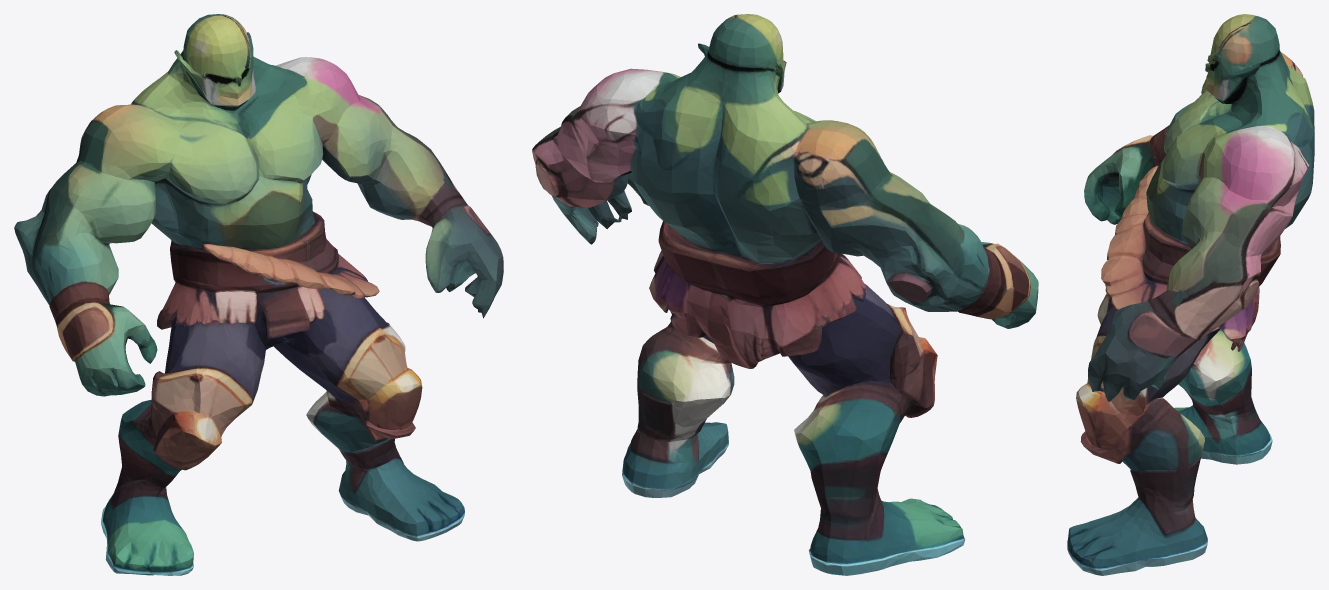
Rendered from orc_warrior.glb.
3 renders of one model, left to right at view 1: azimuth 30°, elevation 25°; view 2: azimuth 150°, elevation 25°; view 3: azimuth 270°, elevation 25°, orthographic. The views are drawn at different scales.
Visible parts, largest first — view 1: geometry_0; view 2: geometry_0; view 3: geometry_0.
Part boxes in pixels (x1,y1,x2,y2): geometry_0: (14, 14, 503, 575); geometry_0: (532, 14, 1038, 575); geometry_0: (1067, 14, 1314, 575).
Bounding box in the file's own units: 1.83 × 2 × 0.9337.
1 material, 1 textured.
